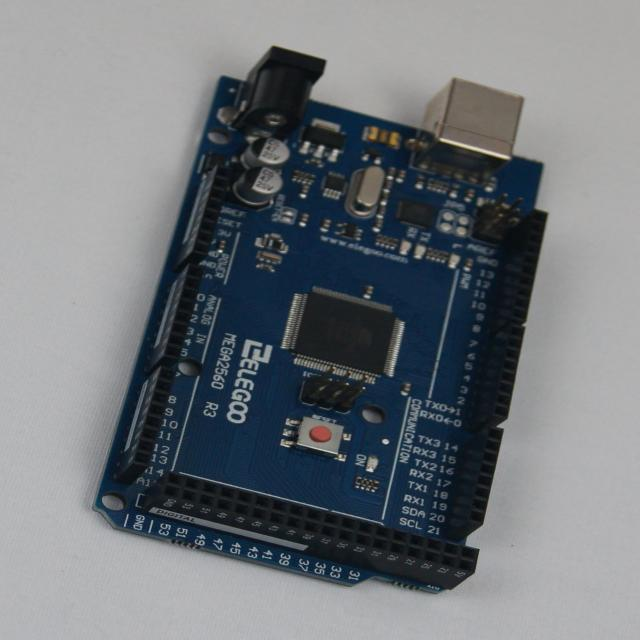Arduino Mega 2560 -Blue-: (96, 48, 547, 592)
